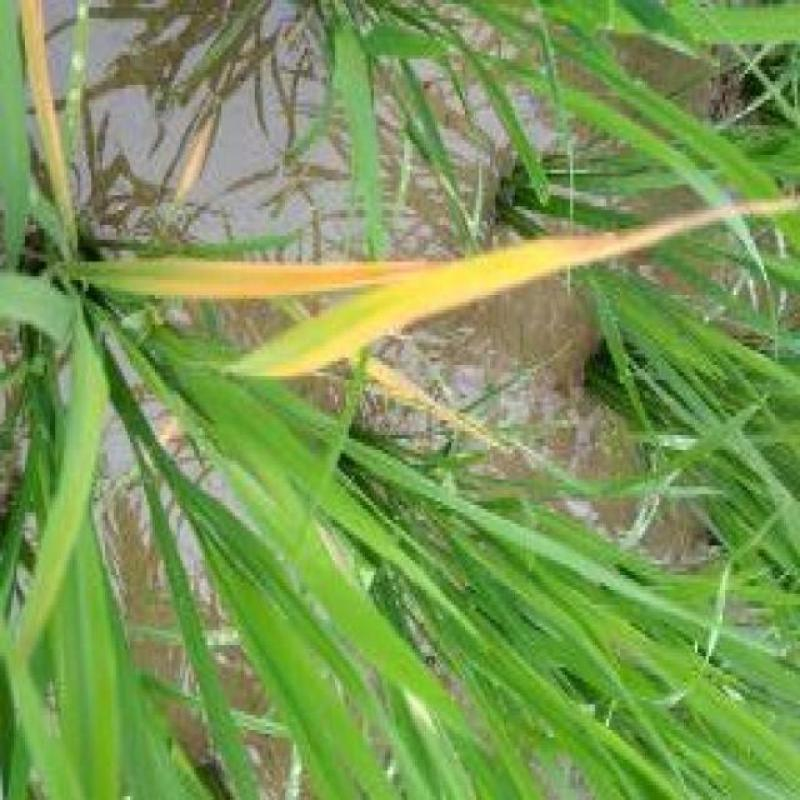Rice Tungro: (145, 244, 430, 298), (454, 236, 648, 289), (246, 308, 400, 374), (657, 188, 800, 232), (414, 379, 496, 440), (169, 122, 215, 182)
